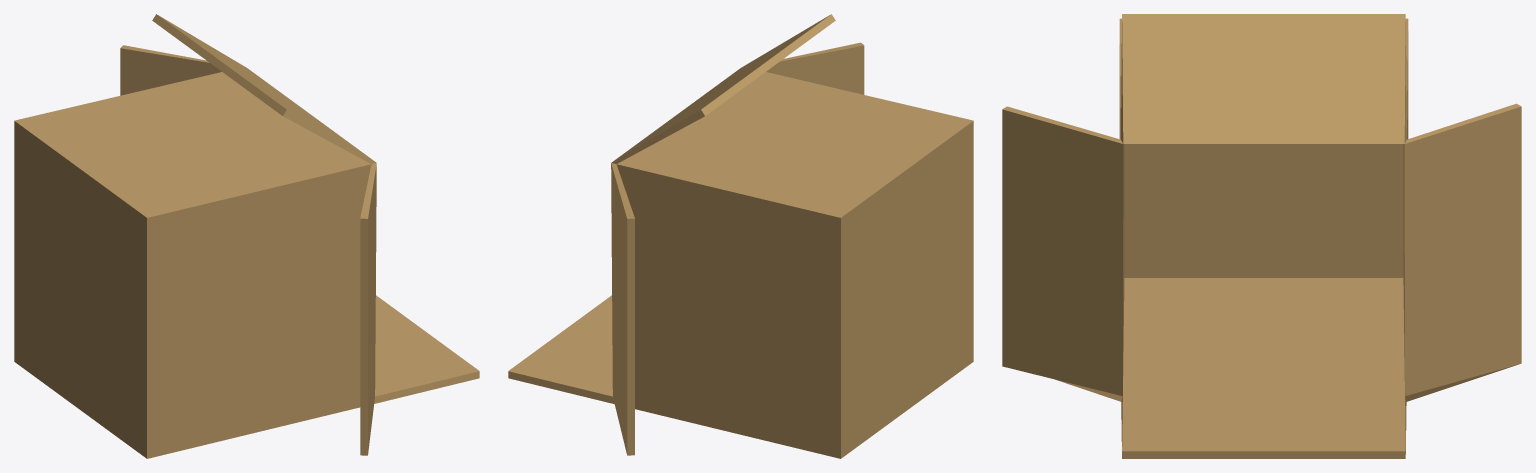
File: CardboardBox.fbx
3 views of the same model, side by side, from view 1: azimuth 30°, elevation 25°; view 2: azimuth 150°, elevation 25°; view 3: azimuth 270°, elevation 25° (orthographic). The views are drawn at different scales.
Parts seen in each view (by area): view 1: Cube.001; view 2: Cube.001; view 3: Cube.001.
Part boxes in pixels (left/top/right/bottom): Cube.001: left=14, top=14, right=479, bottom=458; Cube.001: left=508, top=14, right=973, bottom=458; Cube.001: left=1002, top=14, right=1521, bottom=458.
Size of the model in its own units: 366 by 267 by 295.
